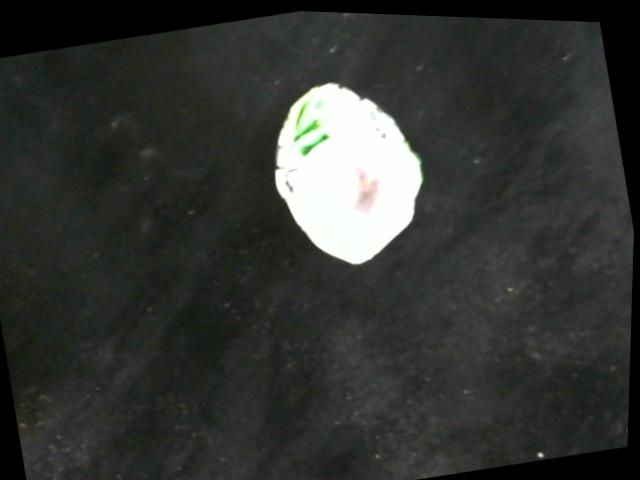can: (273, 68, 435, 264)
